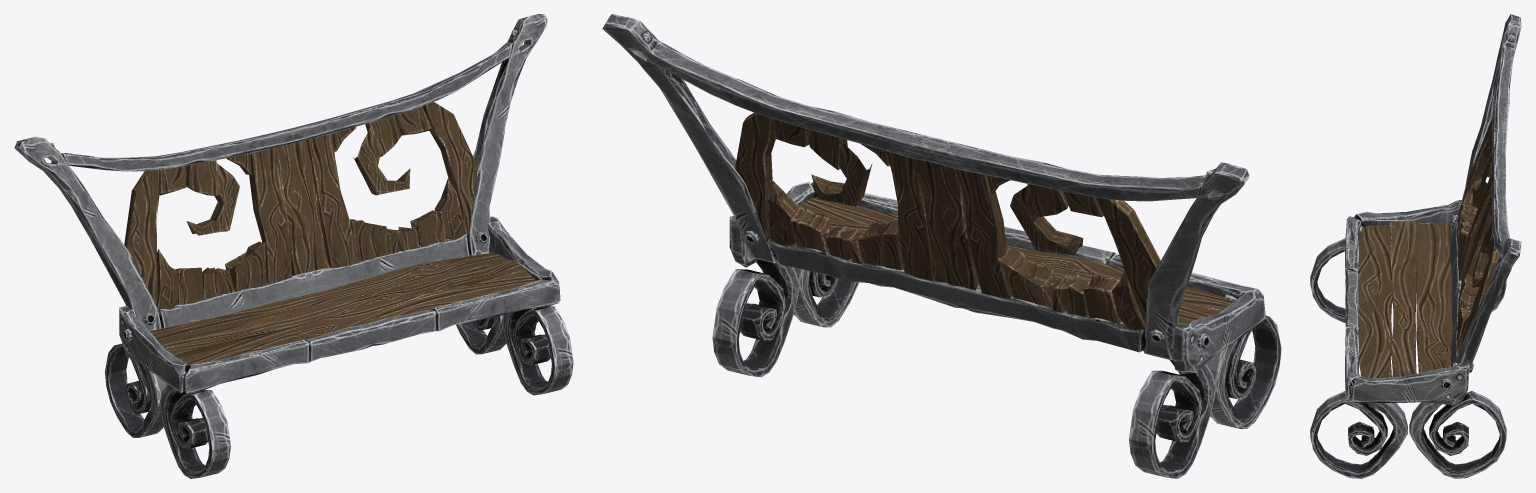
Rendered from Outdoor Bench 01.gltf.
3 views of the same model, side by side, from view 1: azimuth 30°, elevation 25°; view 2: azimuth 150°, elevation 25°; view 3: azimuth 270°, elevation 25° (orthographic). The views are drawn at different scales.
Size of the model in its own units: 2.51 by 1.34 by 0.9517.
1 material, 1 textured.
